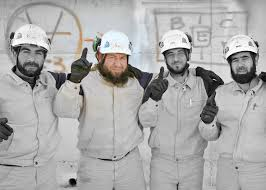Person_wearing_helmet: (5, 21, 53, 56), (92, 25, 137, 61), (221, 28, 261, 62), (157, 27, 193, 57)
